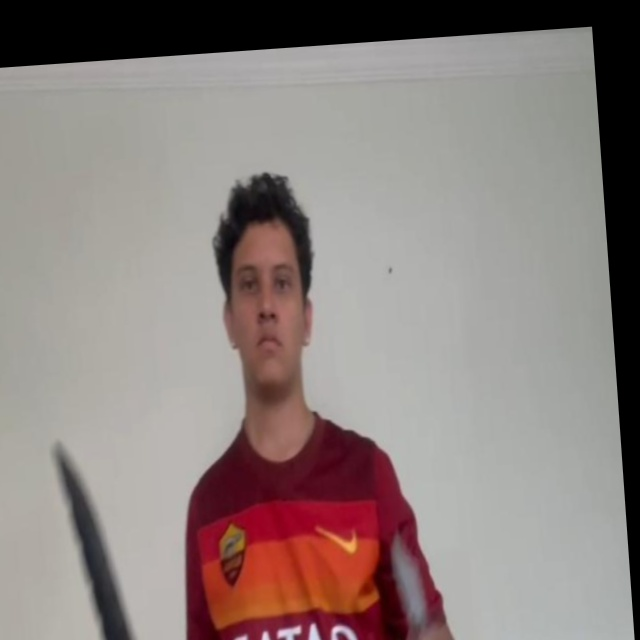Sharp-Object: (54, 442, 155, 640), (390, 540, 426, 628)
